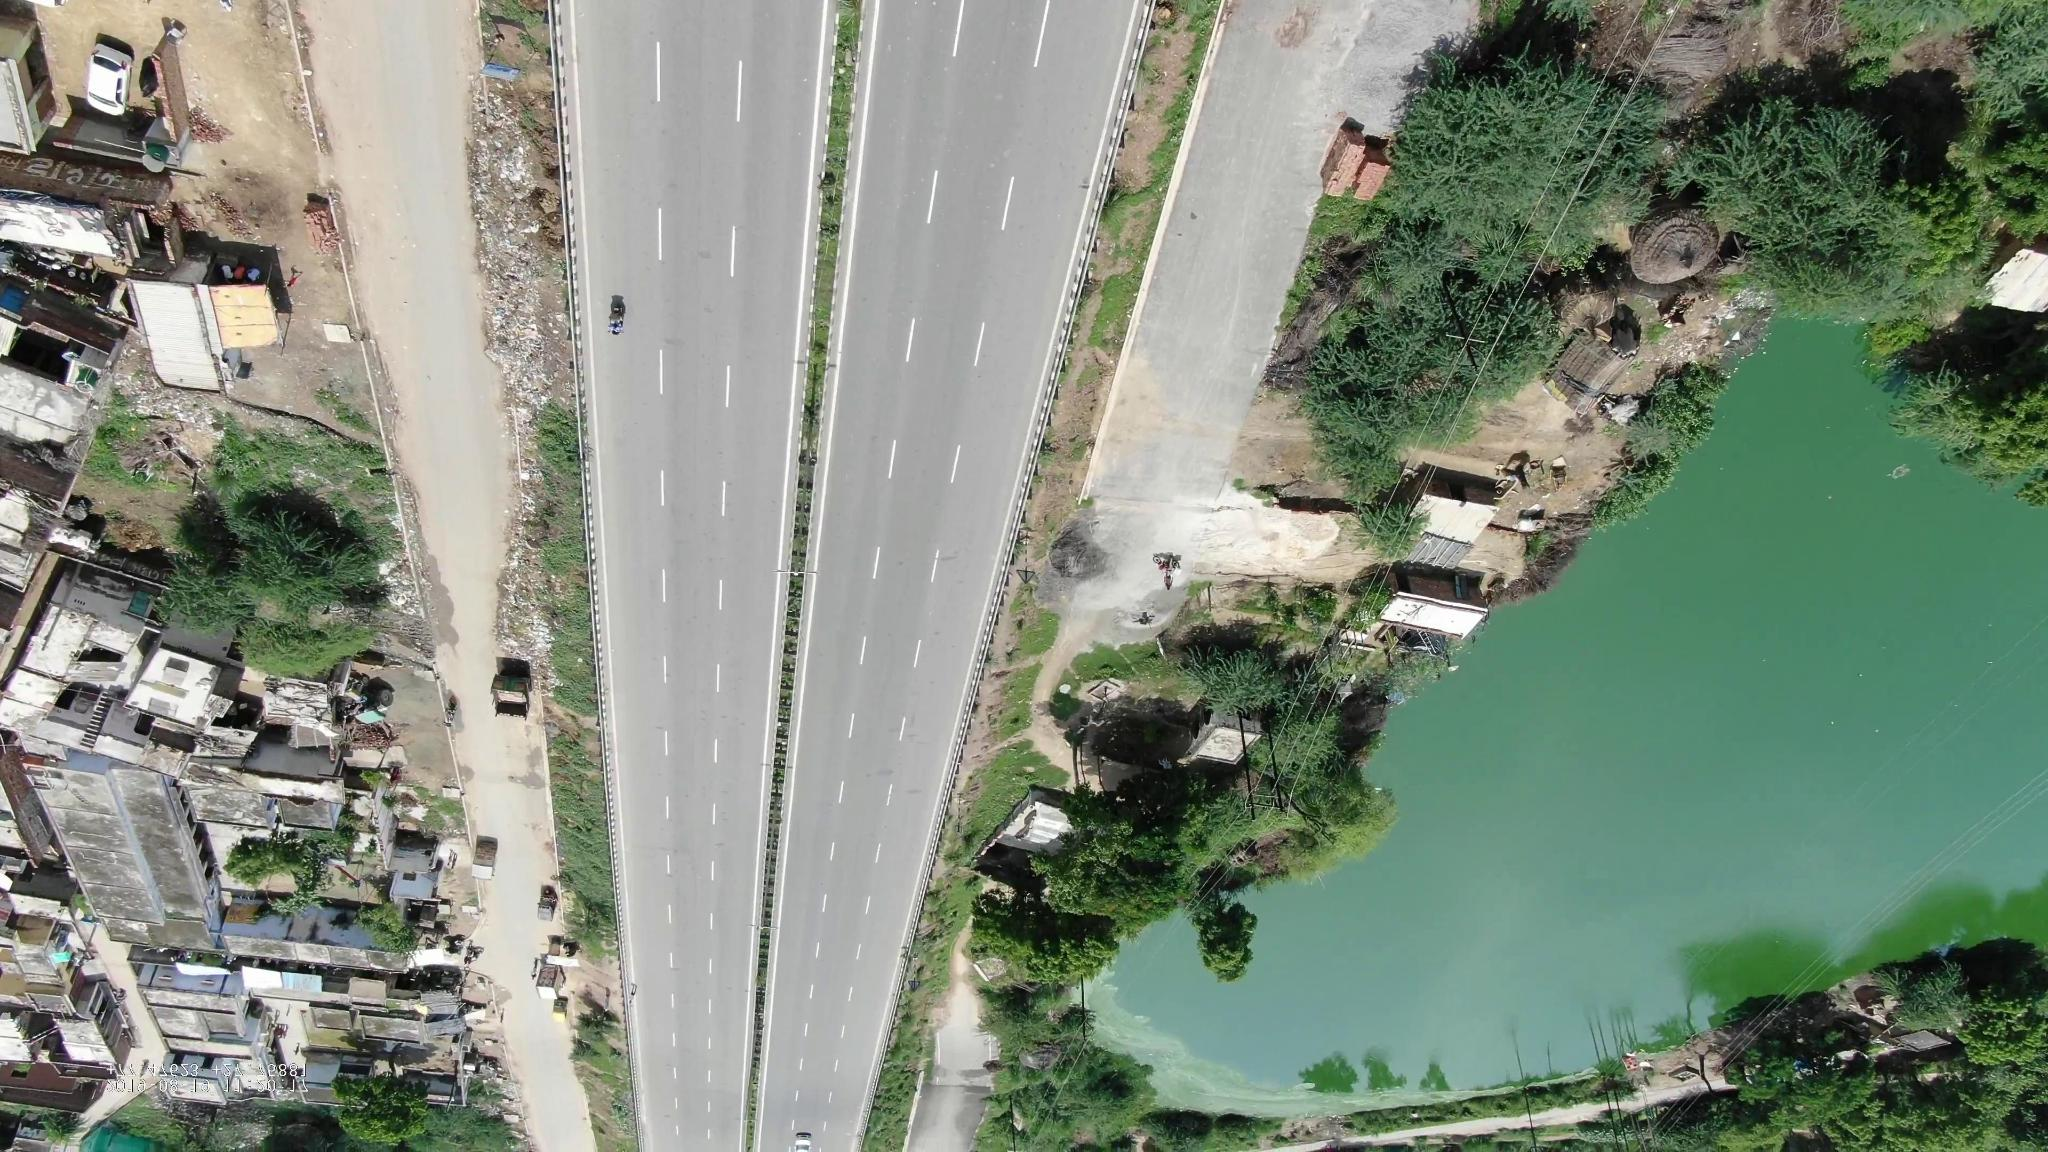Road_side_garbage: (473, 120, 547, 397), (504, 536, 551, 655)
